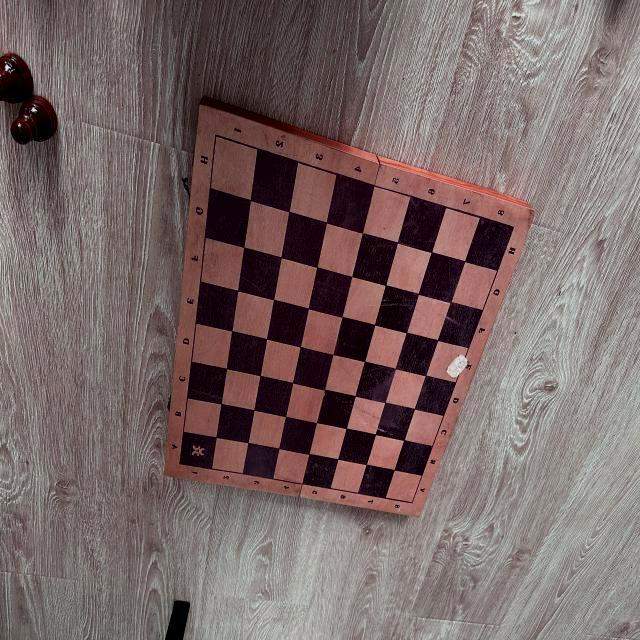chess-table-corners: (406, 498, 417, 509), (211, 130, 221, 142), (176, 458, 184, 470), (510, 222, 518, 232)
